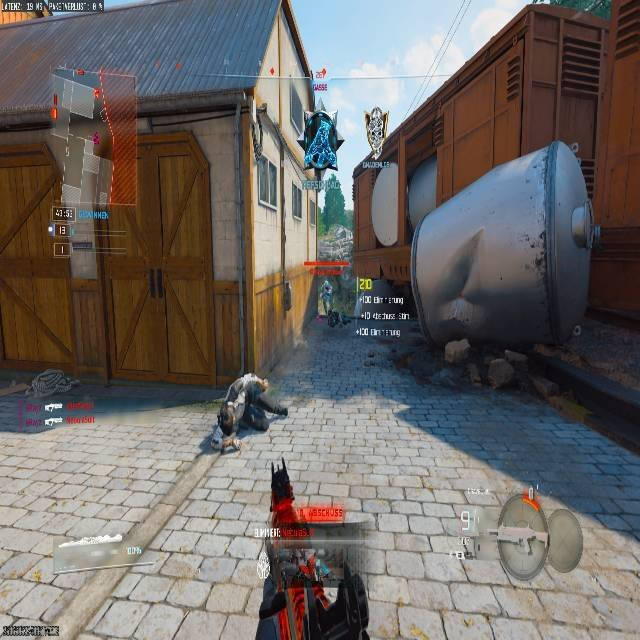head: (254, 374, 270, 394), (321, 279, 329, 286)
player: (300, 108, 343, 190), (320, 279, 333, 313)
